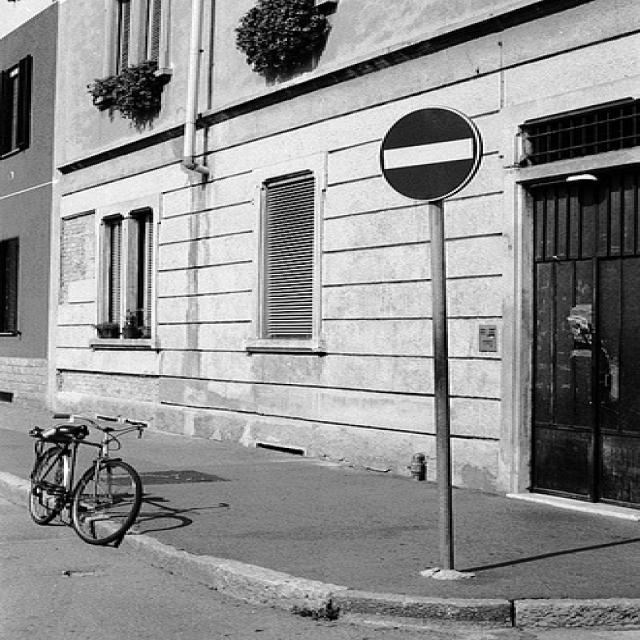bicycle: (22, 412, 150, 545)
